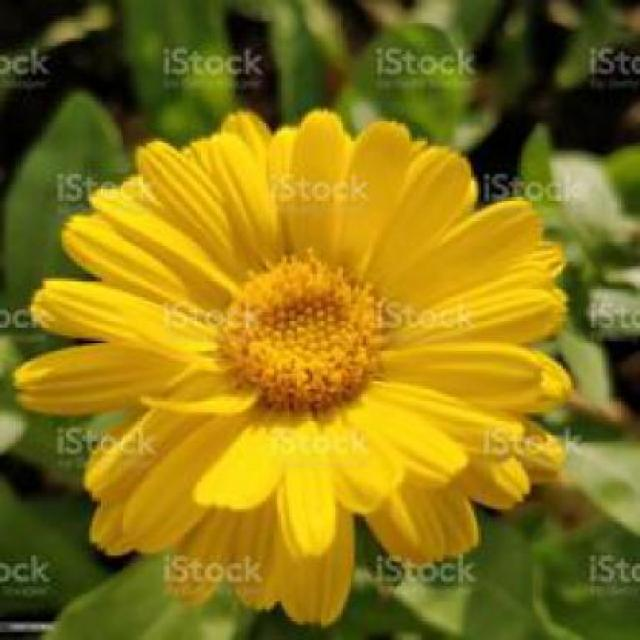Flower: (12, 108, 574, 628), (215, 245, 387, 410)
